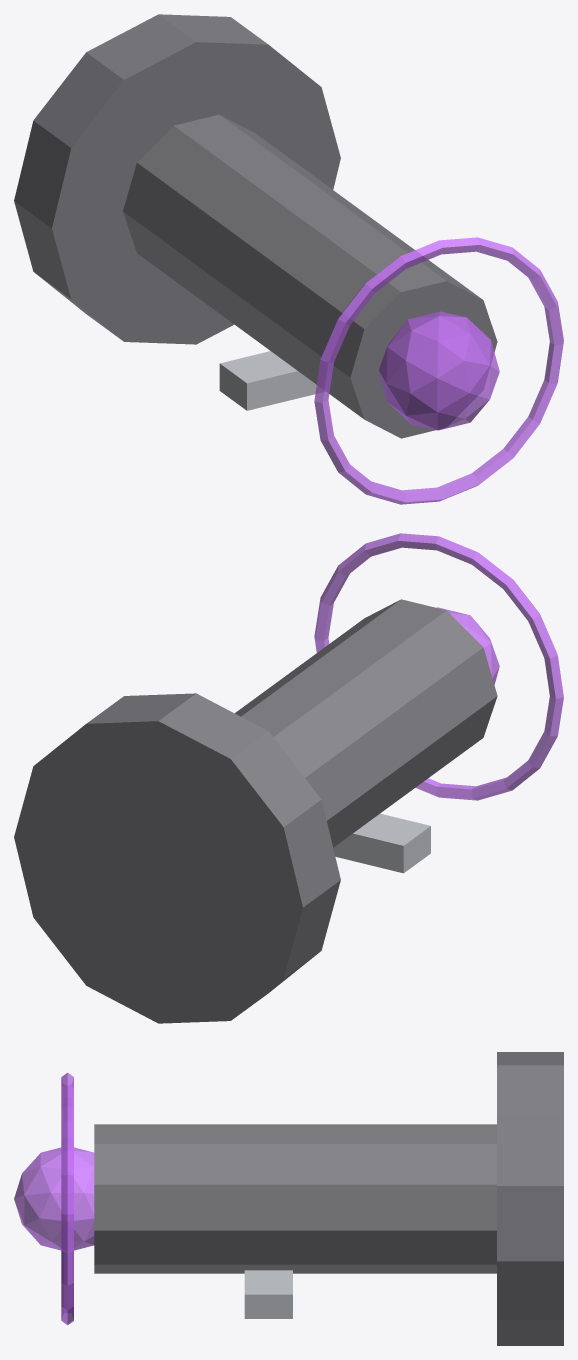
The model's file is void_cult_pylon.glb.
The picture shows the model from 3 angles, top to bottom: view 1: azimuth 30°, elevation 25°; view 2: azimuth 150°, elevation 25°; view 3: azimuth 270°, elevation 25°; orthographic projection. The views are drawn at different scales.
Parts seen in each view (by area): view 1: tower_body, base, signal_ring, energy_core, armor_plate; view 2: base, tower_body, signal_ring, armor_plate, energy_core; view 3: tower_body, base, energy_core, signal_ring, armor_plate.
Boxes of the visible parts, x1,y1,x2,y2 form: tower_body: (123, 114, 497, 438); base: (14, 14, 340, 344); signal_ring: (314, 237, 563, 504); energy_core: (379, 311, 499, 430); armor_plate: (219, 351, 324, 410); base: (14, 693, 340, 1023); tower_body: (235, 599, 497, 847); signal_ring: (314, 533, 563, 800); armor_plate: (333, 813, 430, 873); energy_core: (436, 607, 499, 684); tower_body: (94, 1124, 496, 1273); base: (497, 1052, 563, 1345); energy_core: (14, 1147, 94, 1250); signal_ring: (61, 1072, 73, 1325); armor_plate: (244, 1270, 292, 1318).
Bounding box in the file's own units: 1.1 × 1.1 × 2.05.
